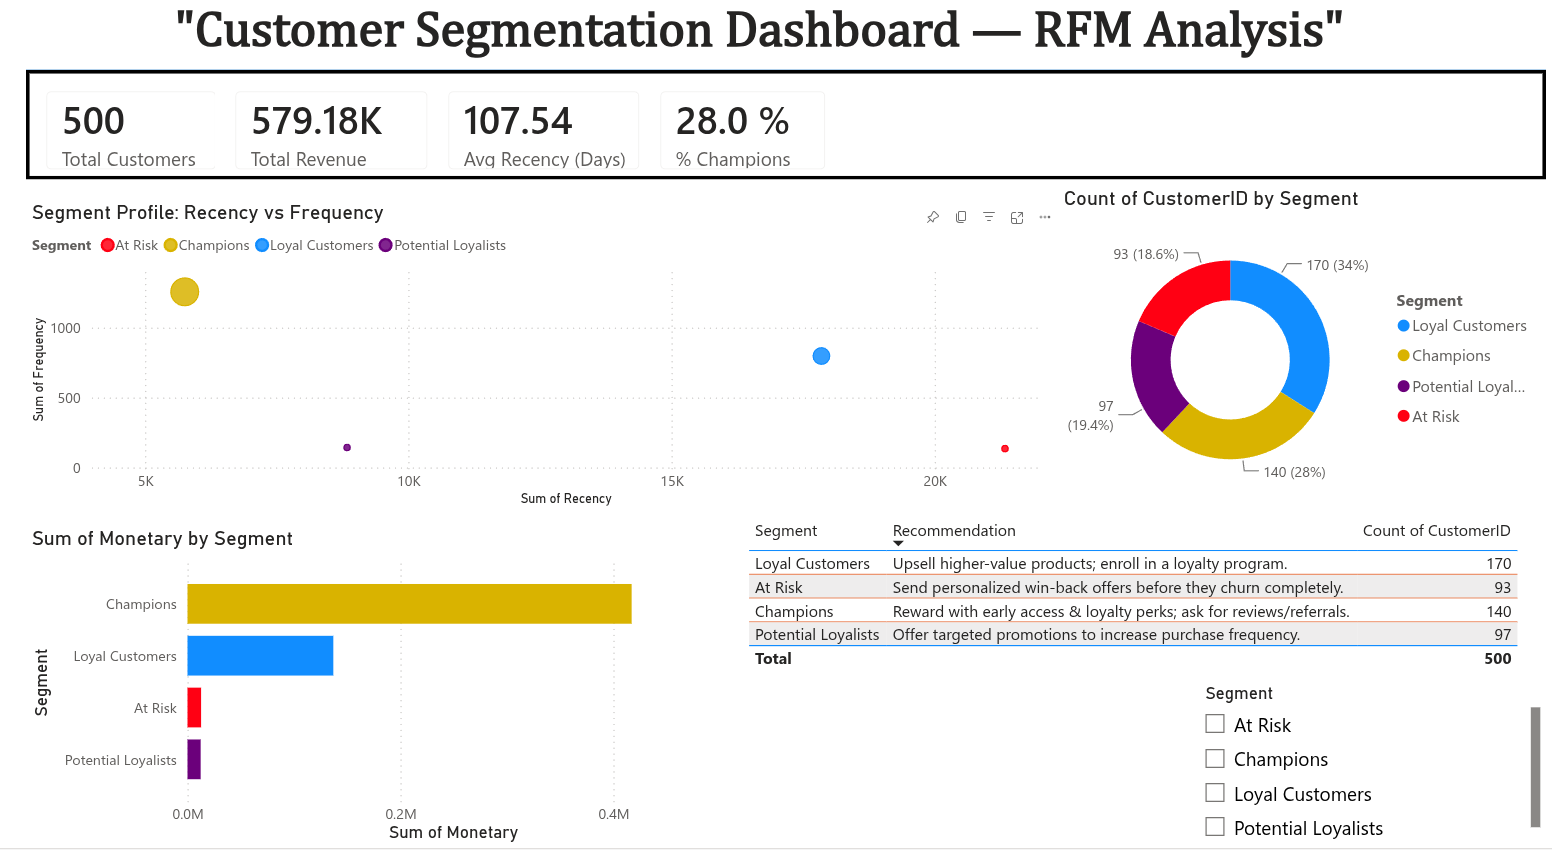

The page's visual inventory and layout, read from the dashboard file:
{"tool":"powerbi","page":{"name":"Page 1","canvas":[1280,720],"ordinal":0},"visuals":[{"type":"cardVisual","fields":{"Data":["customer_segments_for_powerbi 1.Total Customers"]},"box":[0,65.6,177.8,100],"z":0},{"type":"cardVisual","fields":{"Data":["customer_segments_for_powerbi 1.Total Revenue"]},"box":[158.9,65.6,196.7,100],"z":1000},{"type":"cardVisual","fields":{"Data":["customer_segments_for_powerbi 1.Avg Recency (Days)"]},"box":[338.9,65.6,195.6,100],"z":2000},{"type":"cardVisual","fields":{"Data":["customer_segments_for_powerbi 1.% Champions"]},"box":[516.7,65.6,173.3,100],"z":3000},{"type":"donutChart","fields":{"Category":["customer_segments_for_powerbi 1.Segment"],"Y":["CountNonNull(customer_segments_for_powerbi 1.CustomerID)"]},"box":[868.9,165.6,411.1,271.1],"z":4000},{"type":"clusteredBarChart","fields":{"Category":["customer_segments_for_powerbi 1.Segment"],"Y":["Sum(customer_segments_for_powerbi 1.Monetary)"]},"box":[0,452.2,603.3,267.8],"z":5000},{"type":"scatterChart","title":"   Segment Profile: Recency vs Frequency","fields":{"Series":["customer_segments_for_powerbi 1.Segment"],"Size":["Sum(customer_segments_for_powerbi 1.Monetary)"],"X":["Sum(customer_segments_for_powerbi 1.Recency)"],"Y":["Sum(customer_segments_for_powerbi 1.Frequency)"]},"box":[0,177.8,868.9,258.9],"z":6000},{"type":"tableEx","fields":{"Values":["customer_segments_for_powerbi 1.Segment","customer_segments_for_powerbi 1.Recommendation","CountNonNull(customer_segments_for_powerbi 1.CustomerID)"]},"box":[603.3,436.7,668.9,142.2],"z":6001},{"type":"textbox","box":[120,3.3,1040,62.2],"z":6002},{"type":"shape","box":[0,27.8,1280,75.6],"z":6003},{"type":"shape","box":[0,64.4,1280,92.2],"z":6004},{"type":"slicer","fields":{"Values":["customer_segments_for_powerbi 1.Segment"]},"box":[980,578.9,300,141.1],"z":6005}]}

Visuals, with their boxes in screenshot pixels (x1, y1, x2, y2), scaled from the page's 1280x720 canvas onto the 1552x850 screenshot:
cardVisual - customer_segments_for_powerbi 1.Total Customers: {"x1": 0, "y1": 77, "x2": 216, "y2": 196}
cardVisual - customer_segments_for_powerbi 1.Total Revenue: {"x1": 193, "y1": 77, "x2": 431, "y2": 196}
cardVisual - customer_segments_for_powerbi 1.Avg Recency (Days): {"x1": 411, "y1": 77, "x2": 648, "y2": 196}
cardVisual - customer_segments_for_powerbi 1.% Champions: {"x1": 626, "y1": 77, "x2": 837, "y2": 196}
donutChart - customer_segments_for_powerbi 1.Segment x CountNonNull(customer_segments_for_powerbi 1.CustomerID): {"x1": 1054, "y1": 196, "x2": 1551, "y2": 516}
clusteredBarChart - customer_segments_for_powerbi 1.Segment x Sum(customer_segments_for_powerbi 1.Monetary): {"x1": 0, "y1": 534, "x2": 732, "y2": 849}
"   Segment Profile: Recency vs Frequency" scatterChart: {"x1": 0, "y1": 210, "x2": 1054, "y2": 516}
tableEx - customer_segments_for_powerbi 1.Segment x customer_segments_for_powerbi 1.Recommendation: {"x1": 732, "y1": 516, "x2": 1543, "y2": 683}
textbox: {"x1": 146, "y1": 4, "x2": 1406, "y2": 77}
shape: {"x1": 0, "y1": 33, "x2": 1551, "y2": 122}
shape: {"x1": 0, "y1": 76, "x2": 1551, "y2": 185}
slicer - customer_segments_for_powerbi 1.Segment: {"x1": 1188, "y1": 683, "x2": 1551, "y2": 849}
